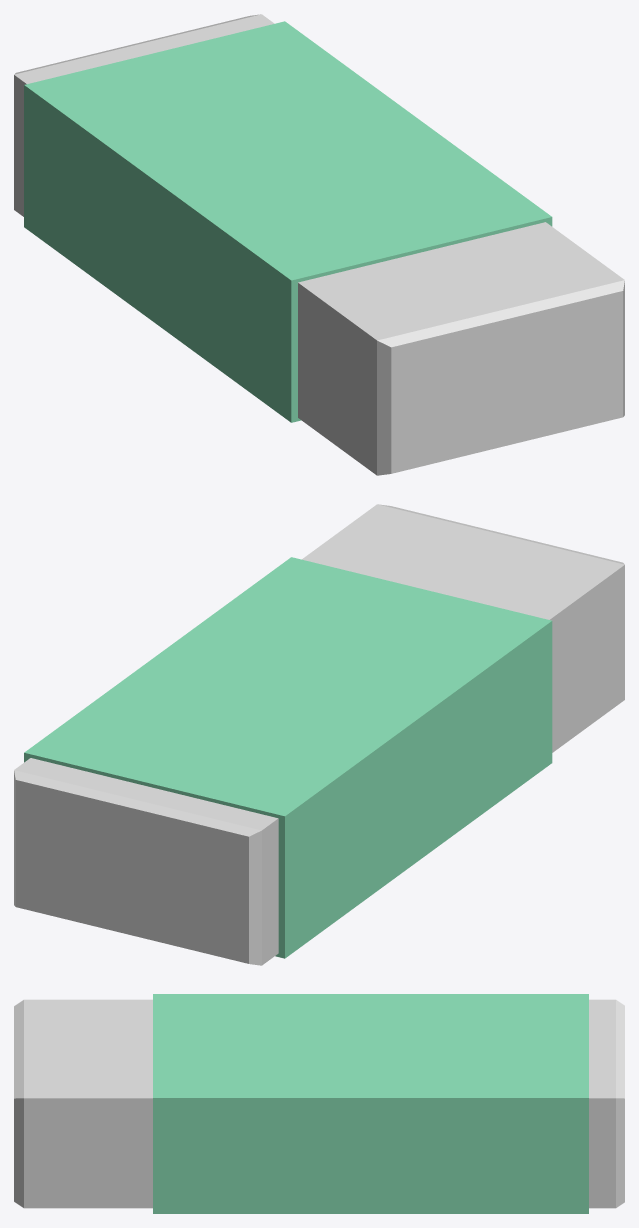
Rendered from Eraser.fbx.
The picture shows the model from 3 angles, top to bottom: view 1: azimuth 30°, elevation 25°; view 2: azimuth 150°, elevation 25°; view 3: azimuth 270°, elevation 25°; orthographic projection. The views are drawn at different scales.
Visible parts, largest first — view 1: Eraser; view 2: Eraser; view 3: Eraser.
Boxes of the visible parts, x1,y1,x2,y2 form: Eraser: [14, 14, 624, 475]; Eraser: [14, 504, 624, 965]; Eraser: [14, 994, 624, 1213].
Bounding box in the file's own units: 0.0636 × 0.0331 × 0.1582.
